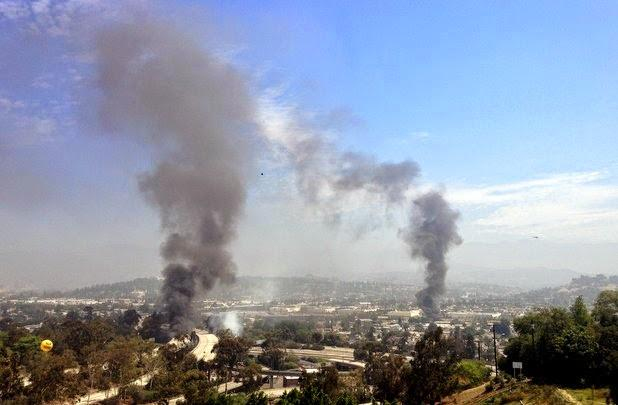smoke: (137, 60, 222, 141), (148, 156, 236, 225)
